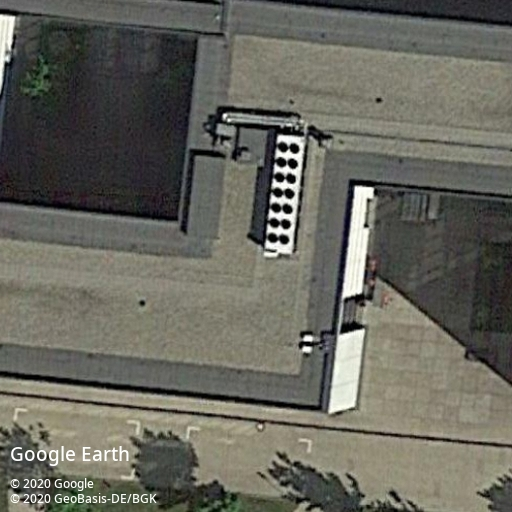Chiller: (263, 133, 306, 251)
